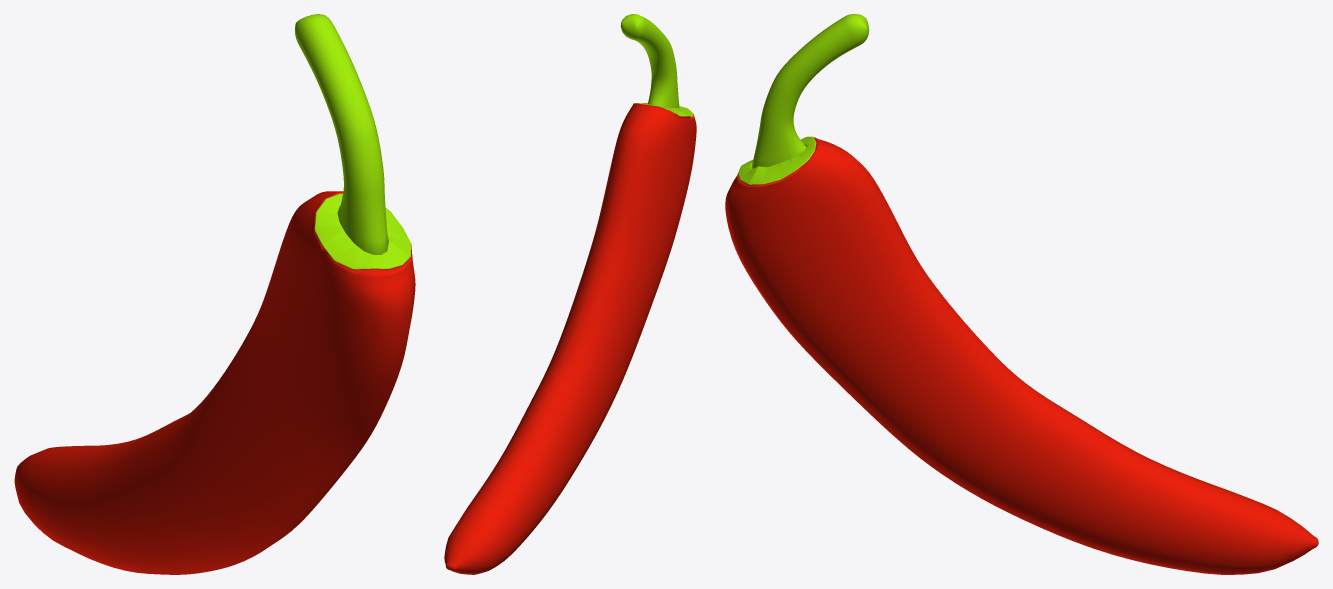
Rendered from Chili.fbx.
The picture shows the model from 3 angles, left to right: view 1: azimuth 30°, elevation 25°; view 2: azimuth 150°, elevation 25°; view 3: azimuth 270°, elevation 25°; orthographic projection. The views are drawn at different scales.
Visible parts, largest first — view 1: Vert.002; view 2: Vert.002; view 3: Vert.002.
Part boxes in pixels (left/top/right/bottom): Vert.002: left=14, top=14, right=415, bottom=574; Vert.002: left=444, top=14, right=696, bottom=574; Vert.002: left=725, top=14, right=1318, bottom=574.
Bounding box in the file's own units: 44.11 × 362 × 350.
